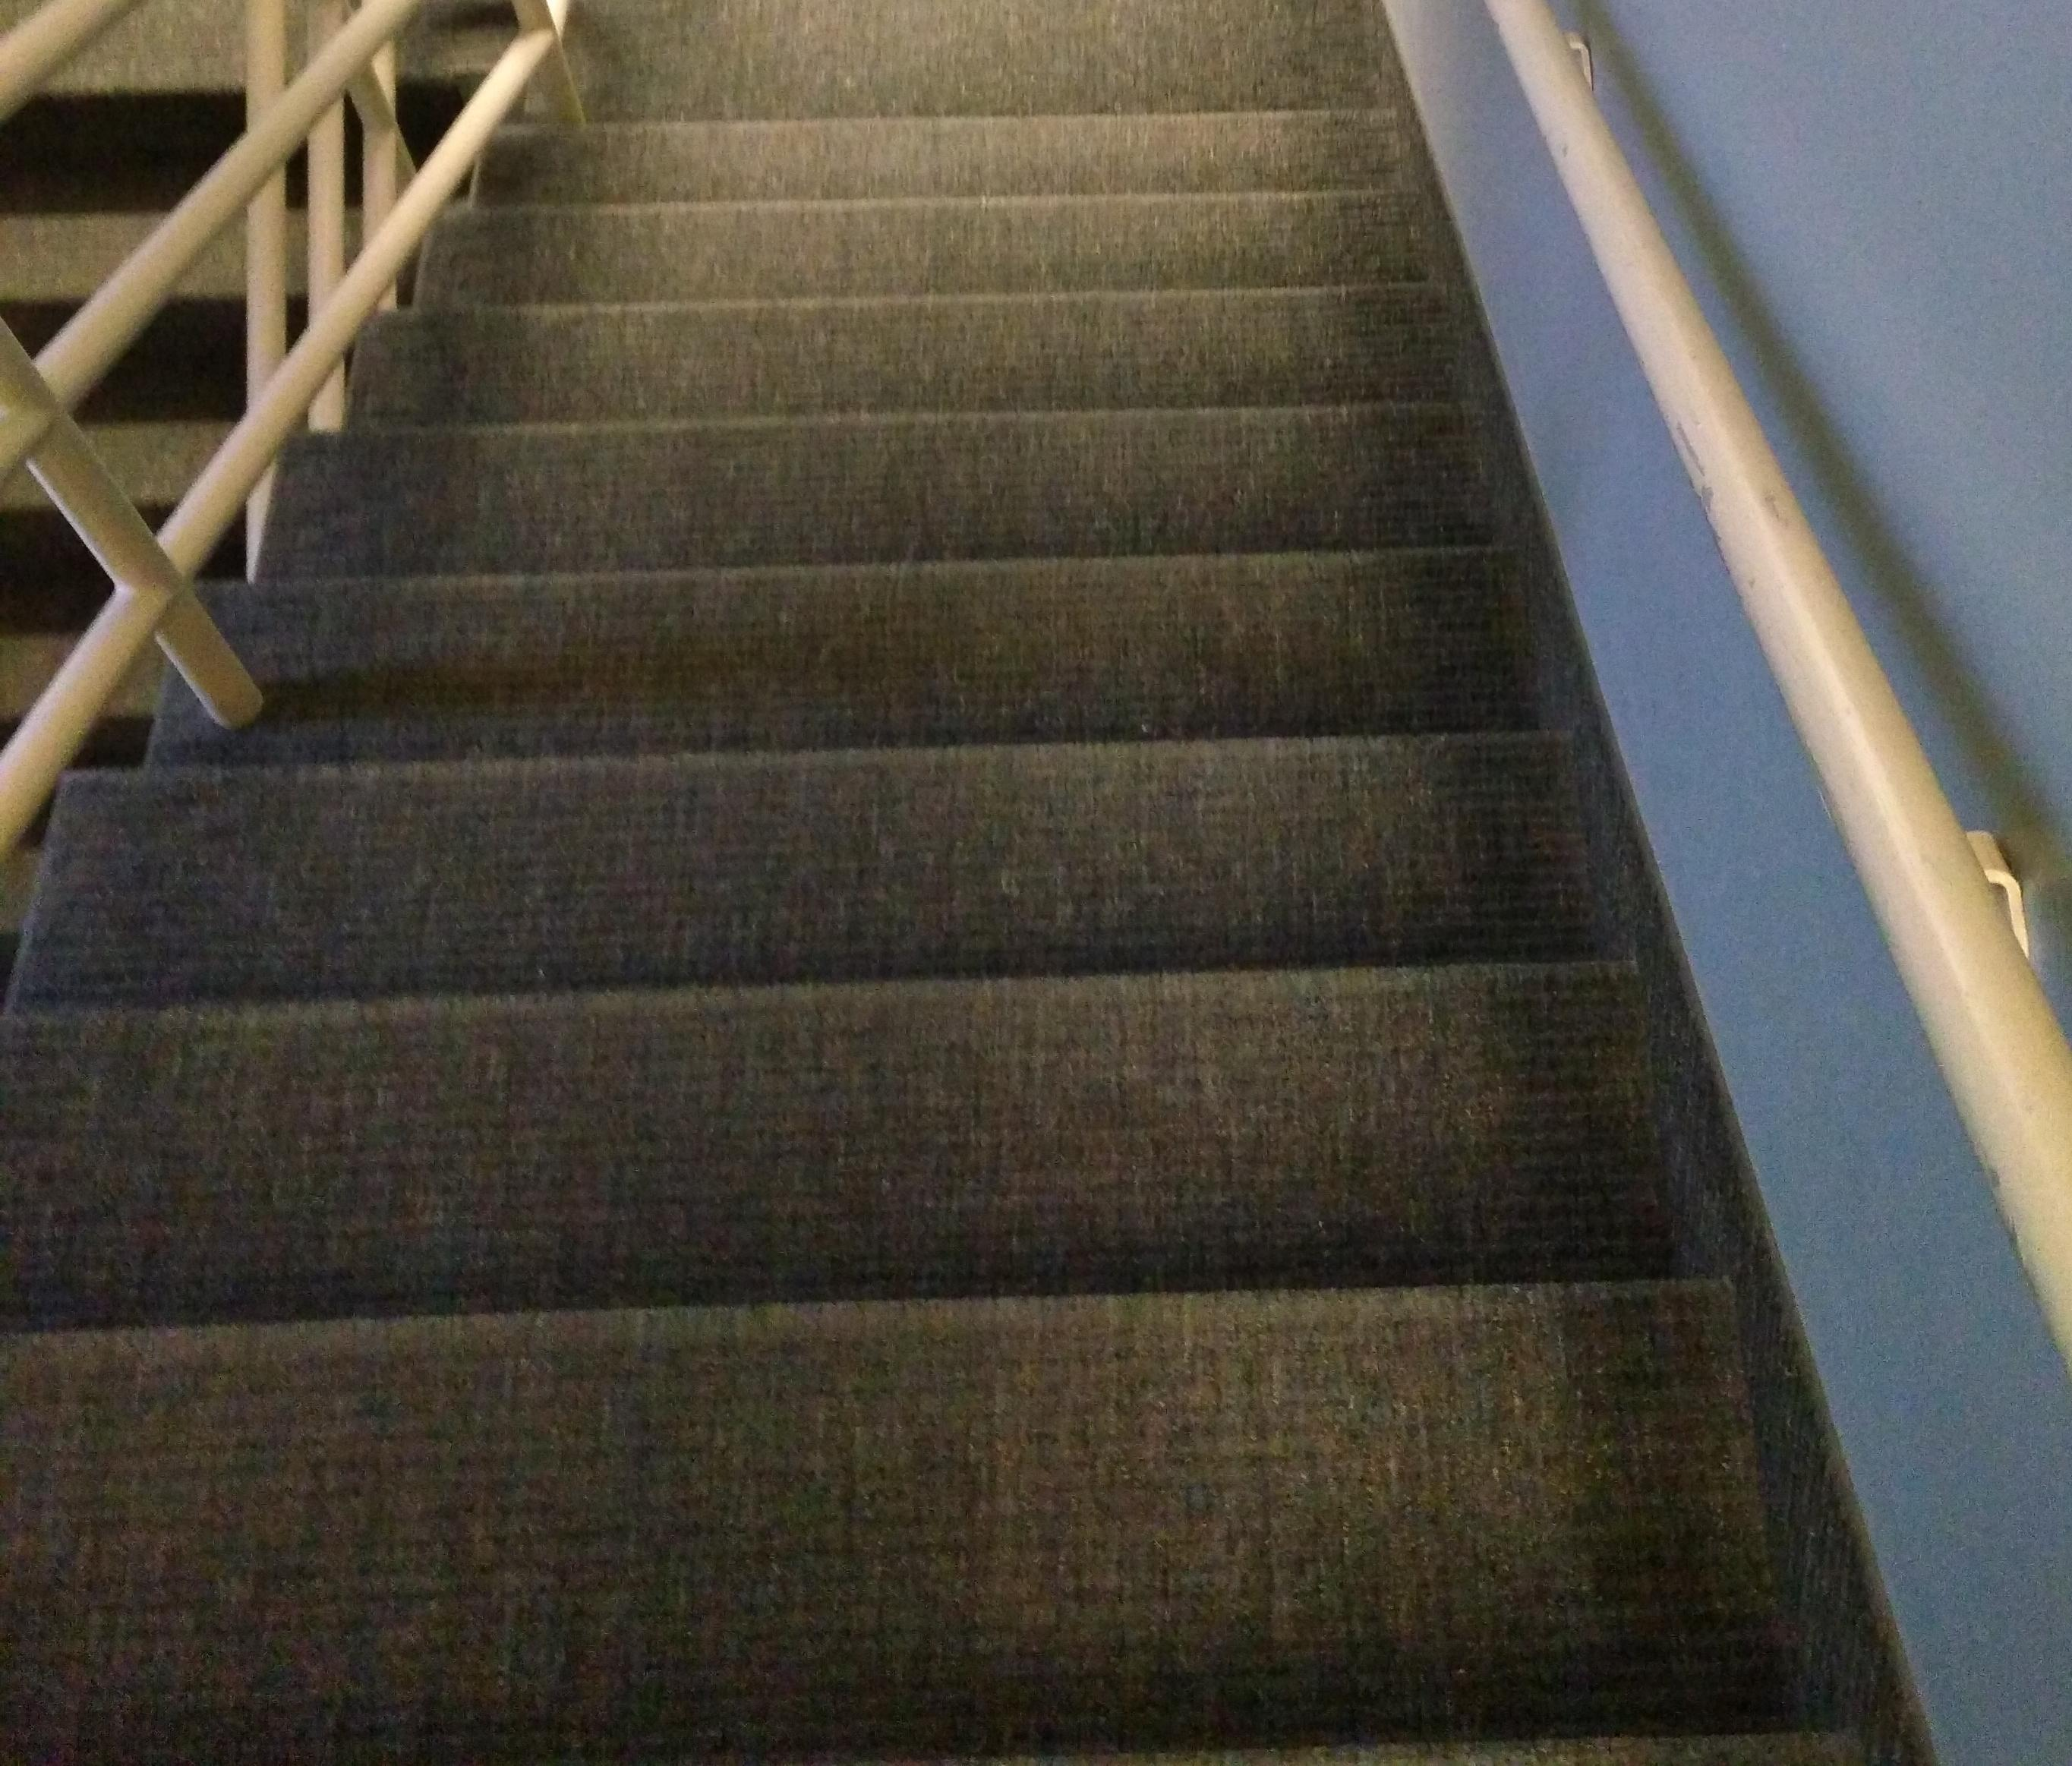stairs_down: (114, 124, 1561, 1556)
